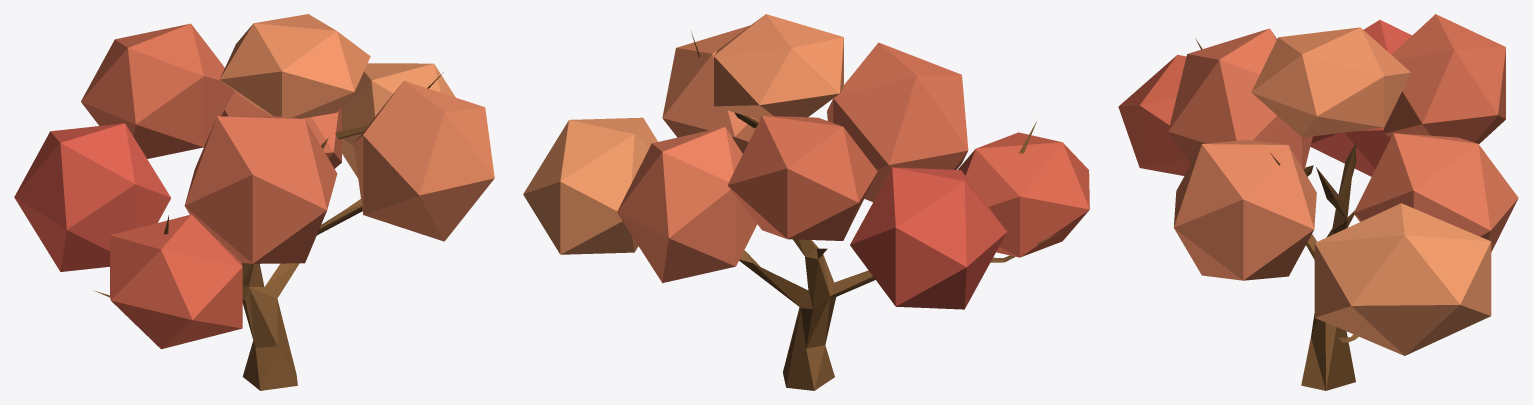
Rendered from cherry_1_autumn_far.glb.
3 views of the same model, side by side, from view 1: azimuth 30°, elevation 25°; view 2: azimuth 150°, elevation 25°; view 3: azimuth 270°, elevation 25° (orthographic). The views are drawn at different scales.
Visible parts, largest first — view 1: cherry_1_autumn_far; view 2: cherry_1_autumn_far; view 3: cherry_1_autumn_far.
Part boxes in pixels (box(x1,y1,x2,y2)): cherry_1_autumn_far: box(14, 14, 494, 390); cherry_1_autumn_far: box(523, 14, 1089, 390); cherry_1_autumn_far: box(1118, 14, 1518, 390).
Bounding box in the file's own units: 9.22 × 6.78 × 7.01.
